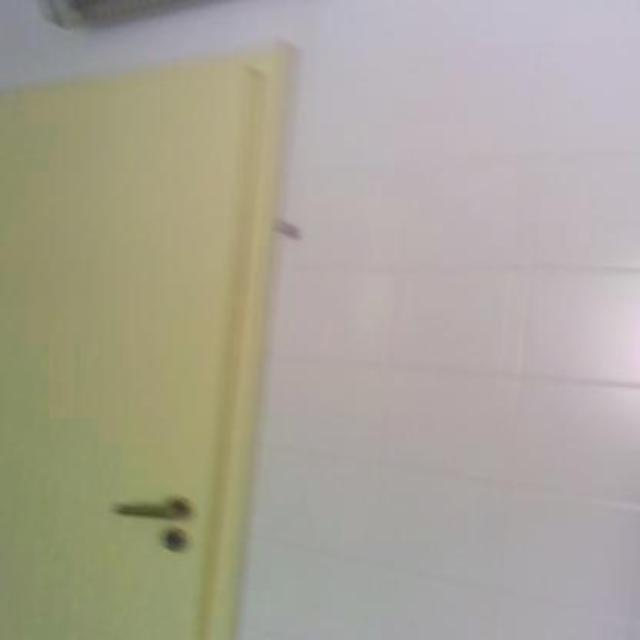door: (1, 40, 290, 638)
